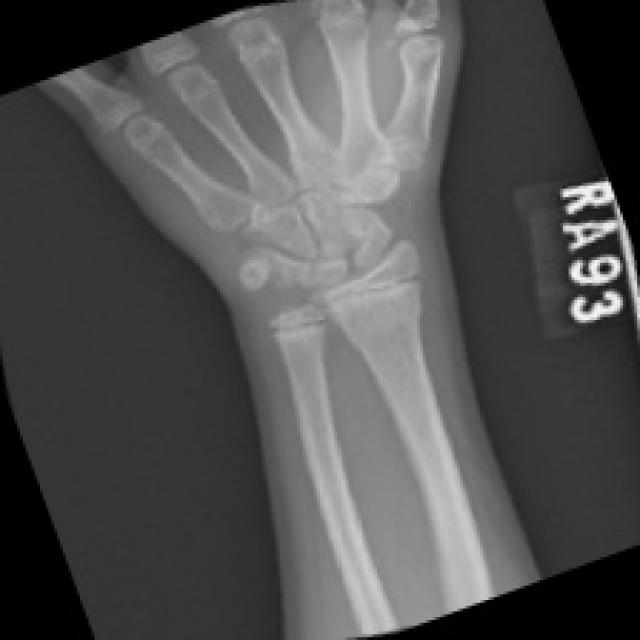fracture: (198, 202, 318, 323)
